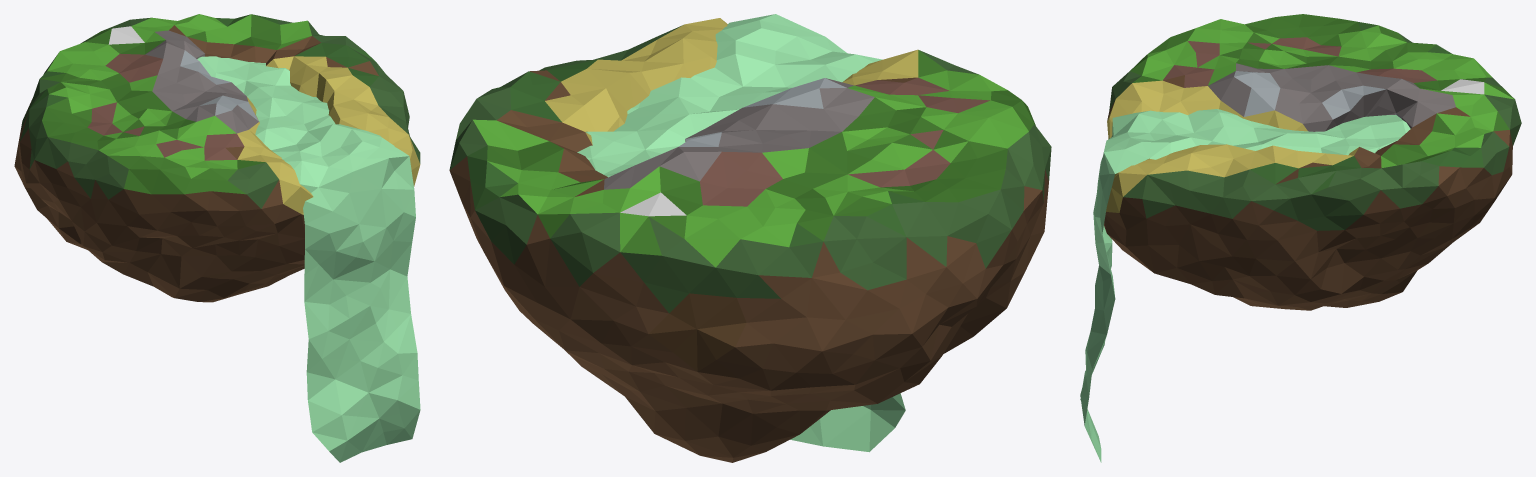
Rendered from IslandCopy.glb.
3 views of the same model, side by side, from view 1: azimuth 30°, elevation 25°; view 2: azimuth 150°, elevation 25°; view 3: azimuth 270°, elevation 25° (orthographic). The views are drawn at different scales.
Parts seen in each view (by area): view 1: Icosphere, Plane; view 2: Icosphere, Plane; view 3: Icosphere, Plane.
Part boxes in pixels (box(x1,y1,x2,y2)): Icosphere: box(14, 14, 420, 302); Plane: box(197, 56, 420, 462); Icosphere: box(449, 18, 1051, 462); Plane: box(577, 14, 905, 452); Icosphere: box(1104, 14, 1521, 310); Plane: box(1080, 109, 1410, 462).
Bounding box in the file's own units: 30.16 × 26.61 × 32.03.
